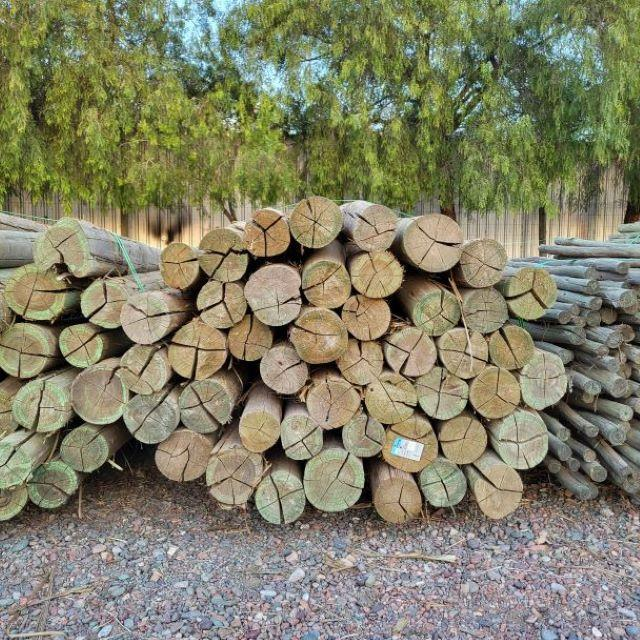package: (129, 196, 567, 527), (1, 215, 123, 526)
